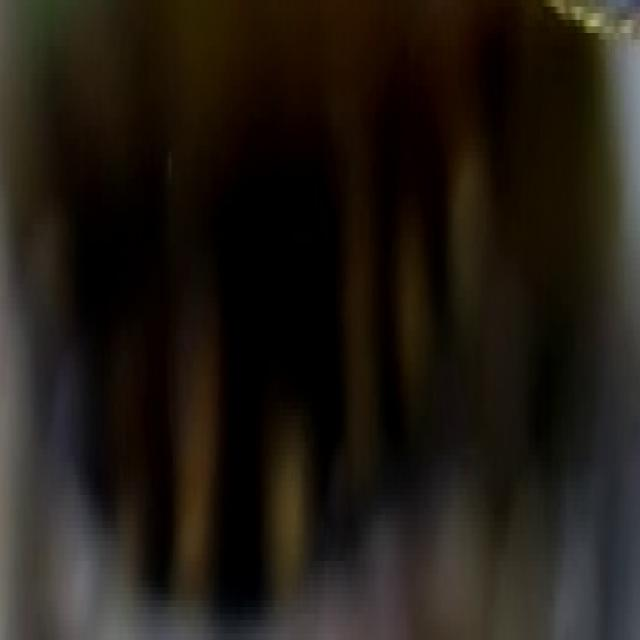fish: (1, 0, 639, 634)
